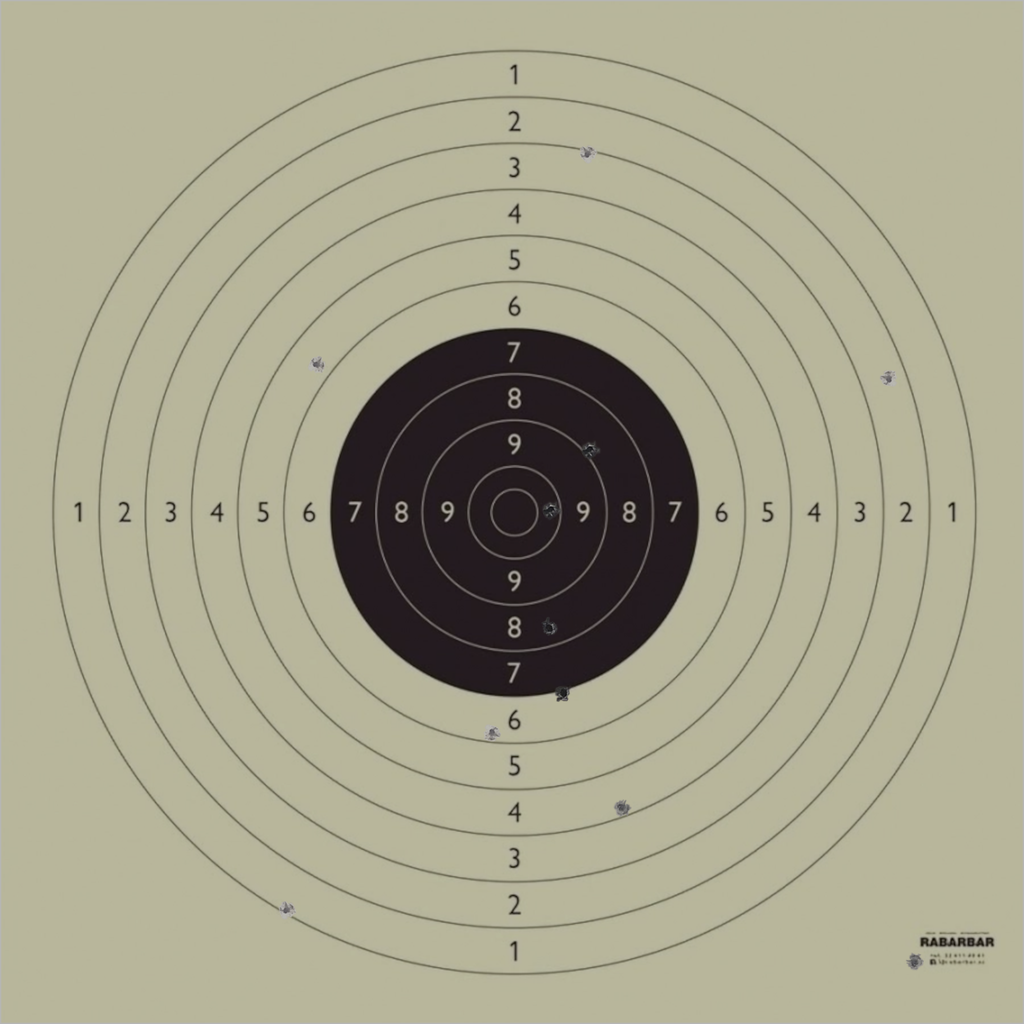0 punktow: (905, 953, 924, 972)
1 punkt: (277, 901, 296, 919)
10 punktow: (542, 500, 560, 519)
2 punkty: (879, 370, 898, 388)
3 punkty: (578, 145, 597, 163)
4 punkty: (612, 798, 631, 817)
5 punktow: (307, 355, 326, 374)
6 punktow: (483, 723, 501, 742)
7 punktow: (554, 684, 573, 703)
8 punktow: (540, 619, 559, 637)
9 punktow: (581, 440, 599, 458)
